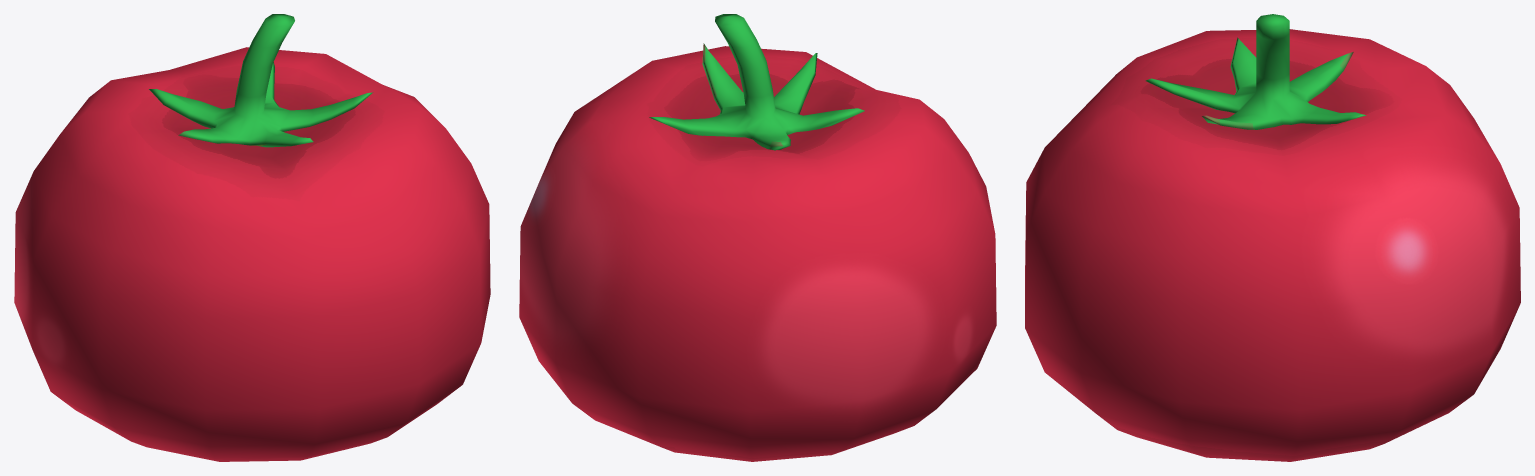
File: Tomato.fbx
3 renders of one model, left to right at view 1: azimuth 30°, elevation 25°; view 2: azimuth 150°, elevation 25°; view 3: azimuth 270°, elevation 25°, orthographic. The views are drawn at different scales.
Parts seen in each view (by area): view 1: Tomato; view 2: Tomato; view 3: Tomato.
Part boxes in pixels (bbox=[...]): Tomato: bbox=[14, 14, 490, 461]; Tomato: bbox=[519, 14, 996, 461]; Tomato: bbox=[1025, 14, 1520, 461].
Bounding box in the file's own units: 54.55 × 48.39 × 54.15.
